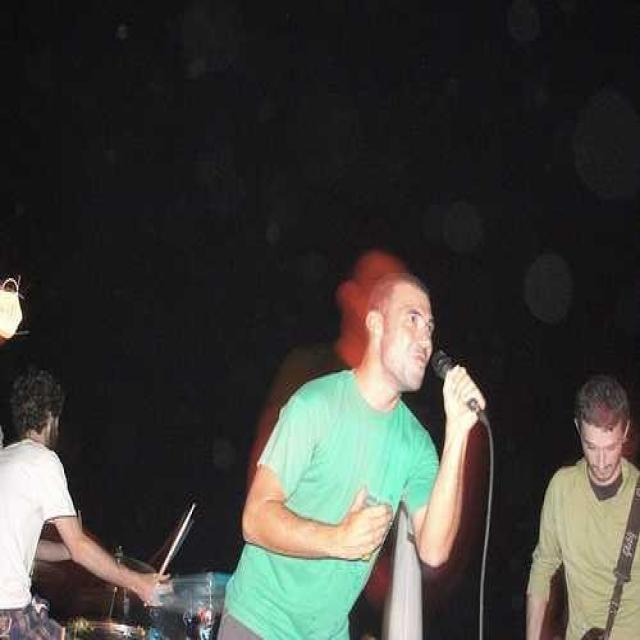microphone: (426, 348, 483, 421)
